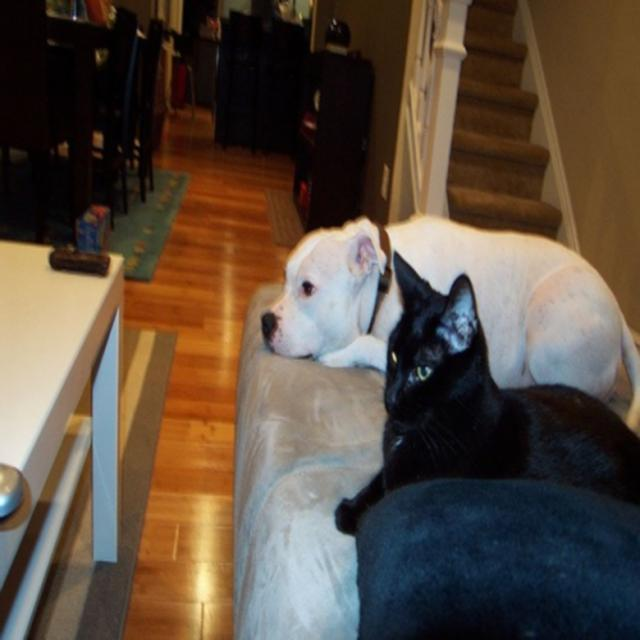dog: (256, 208, 639, 426)
